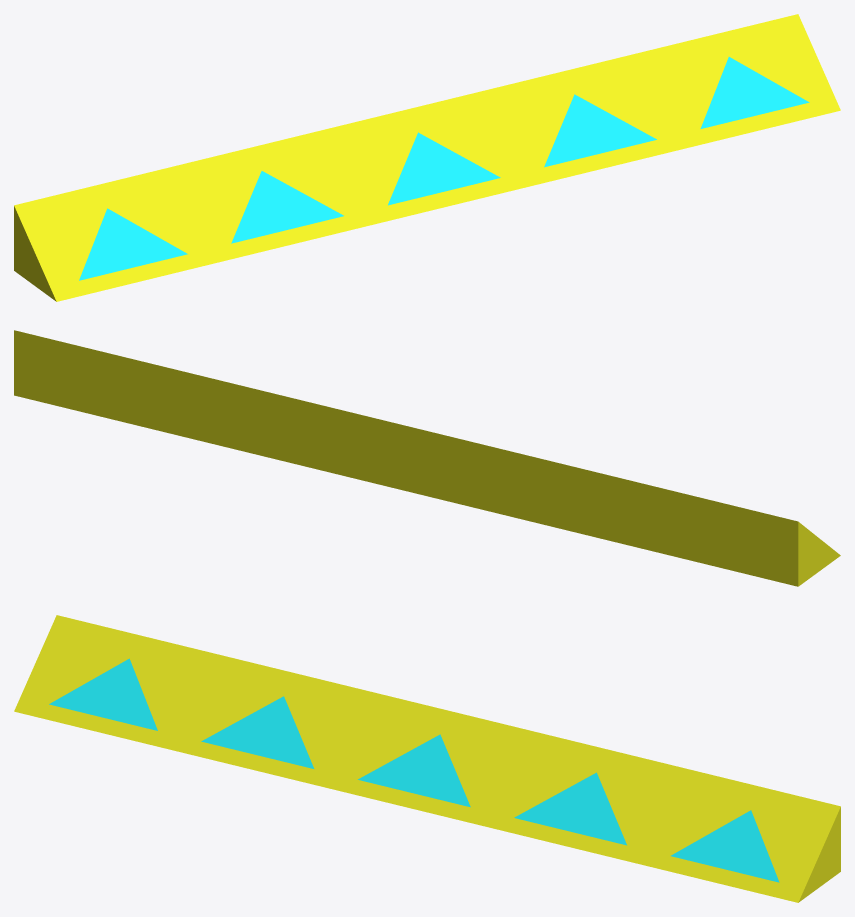
The model's file is jump_5.fbx.
3 views of the same model, one above another, from view 1: azimuth 30°, elevation 25°; view 2: azimuth 150°, elevation 25°; view 3: azimuth 330°, elevation 25° (orthographic).
Visible parts, largest first — view 1: jump_5; view 2: jump_5; view 3: jump_5.
Boxes of the visible parts, x1,y1,x2,y2 form: jump_5: (14,14,840,301); jump_5: (14,330,840,586); jump_5: (14,615,840,902).
Size of the model in its own units: 1.72 by 0.137 by 0.1623.
